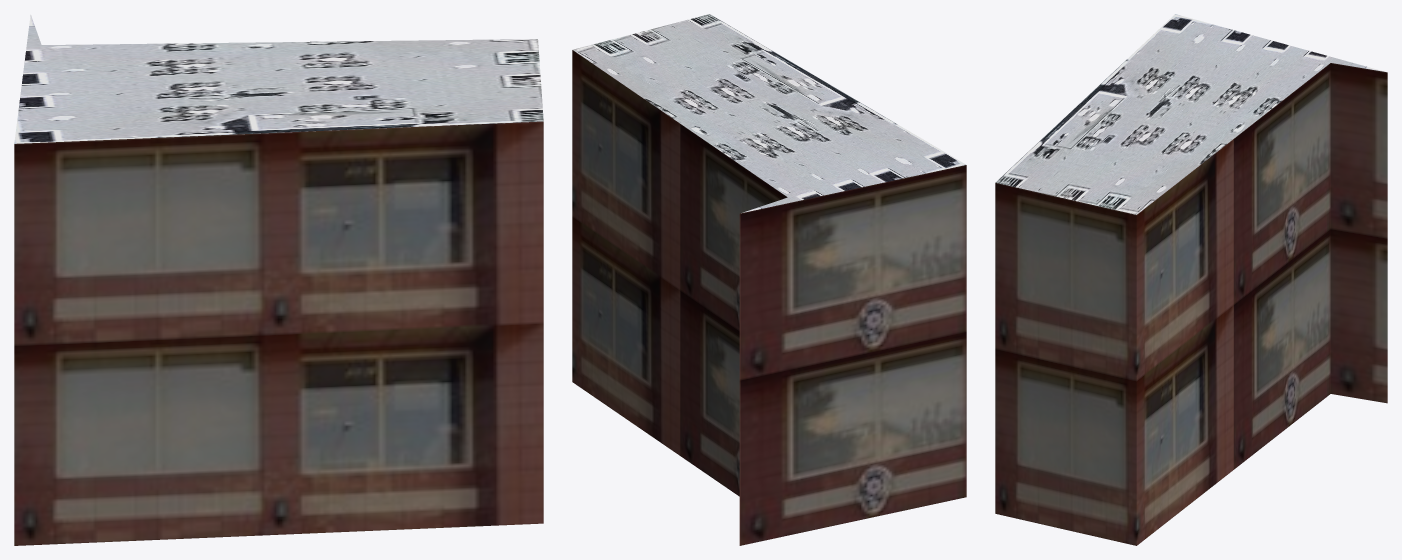
Rendered from ResTex__817.fbx.
3 views of the same model, side by side, from view 1: azimuth 30°, elevation 25°; view 2: azimuth 150°, elevation 25°; view 3: azimuth 270°, elevation 25° (orthographic). The views are drawn at different scales.
Parts seen in each view (by area): view 1: CityEngineMaterial_13_m, CityEngineMaterial_m; view 2: CityEngineMaterial_13_m, CityEngineMaterial_m; view 3: CityEngineMaterial_13_m, CityEngineMaterial_m.
Boxes of the visible parts, box(x1,y1,x2,y2) form: CityEngineMaterial_13_m: box(14, 121, 543, 545); CityEngineMaterial_m: box(14, 14, 543, 143); CityEngineMaterial_13_m: box(572, 50, 966, 545); CityEngineMaterial_m: box(572, 14, 965, 213); CityEngineMaterial_13_m: box(995, 63, 1387, 545); CityEngineMaterial_m: box(995, 14, 1386, 214).
Bounding box in the file's own units: 7.81 × 6 × 6.45.
2 materials, 2 textured.
